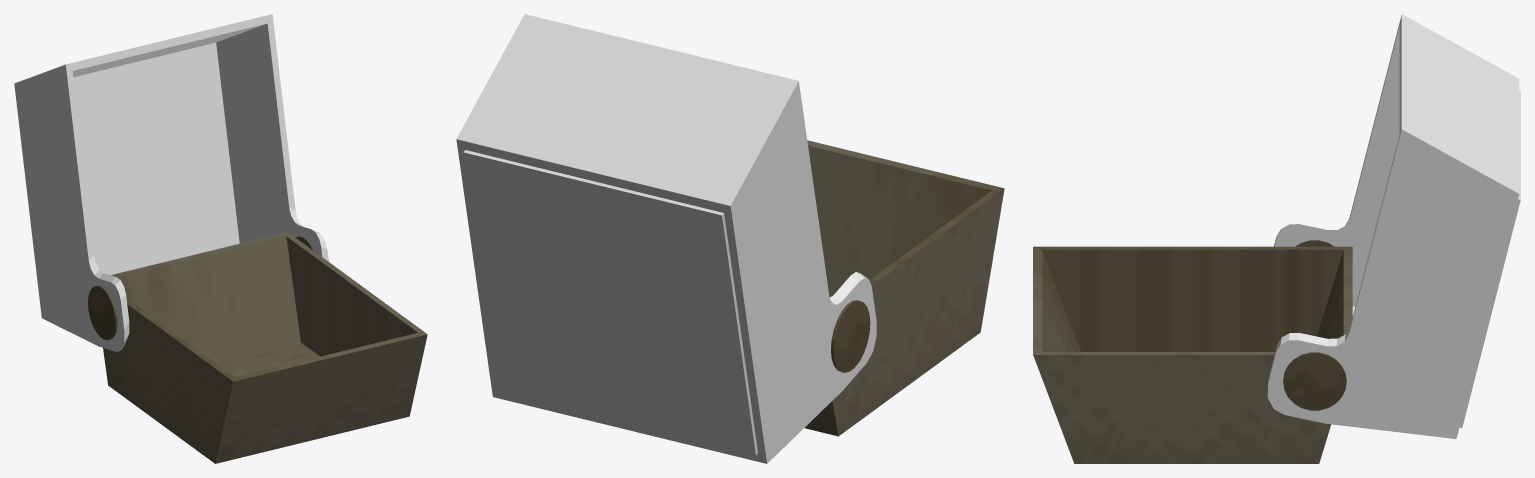
File: FloppyDisks3.fbx
3 views of the same model, side by side, from view 1: azimuth 30°, elevation 25°; view 2: azimuth 150°, elevation 25°; view 3: azimuth 270°, elevation 25° (orthographic). The views are drawn at different scales.
Visible parts, largest first — view 1: lid, base; view 2: lid, base; view 3: base, lid.
Part boxes in pixels (left/top/right/bottom): lid: left=14, top=14, right=328, bottom=351; base: left=88, top=232, right=427, bottom=463; lid: left=456, top=14, right=876, bottom=463; base: left=804, top=140, right=1004, bottom=436; base: left=1033, top=240, right=1352, bottom=463; lid: left=1267, top=14, right=1520, bottom=438.
Size of the model in its own units: 0.1081 by 0.1464 by 0.1898.
